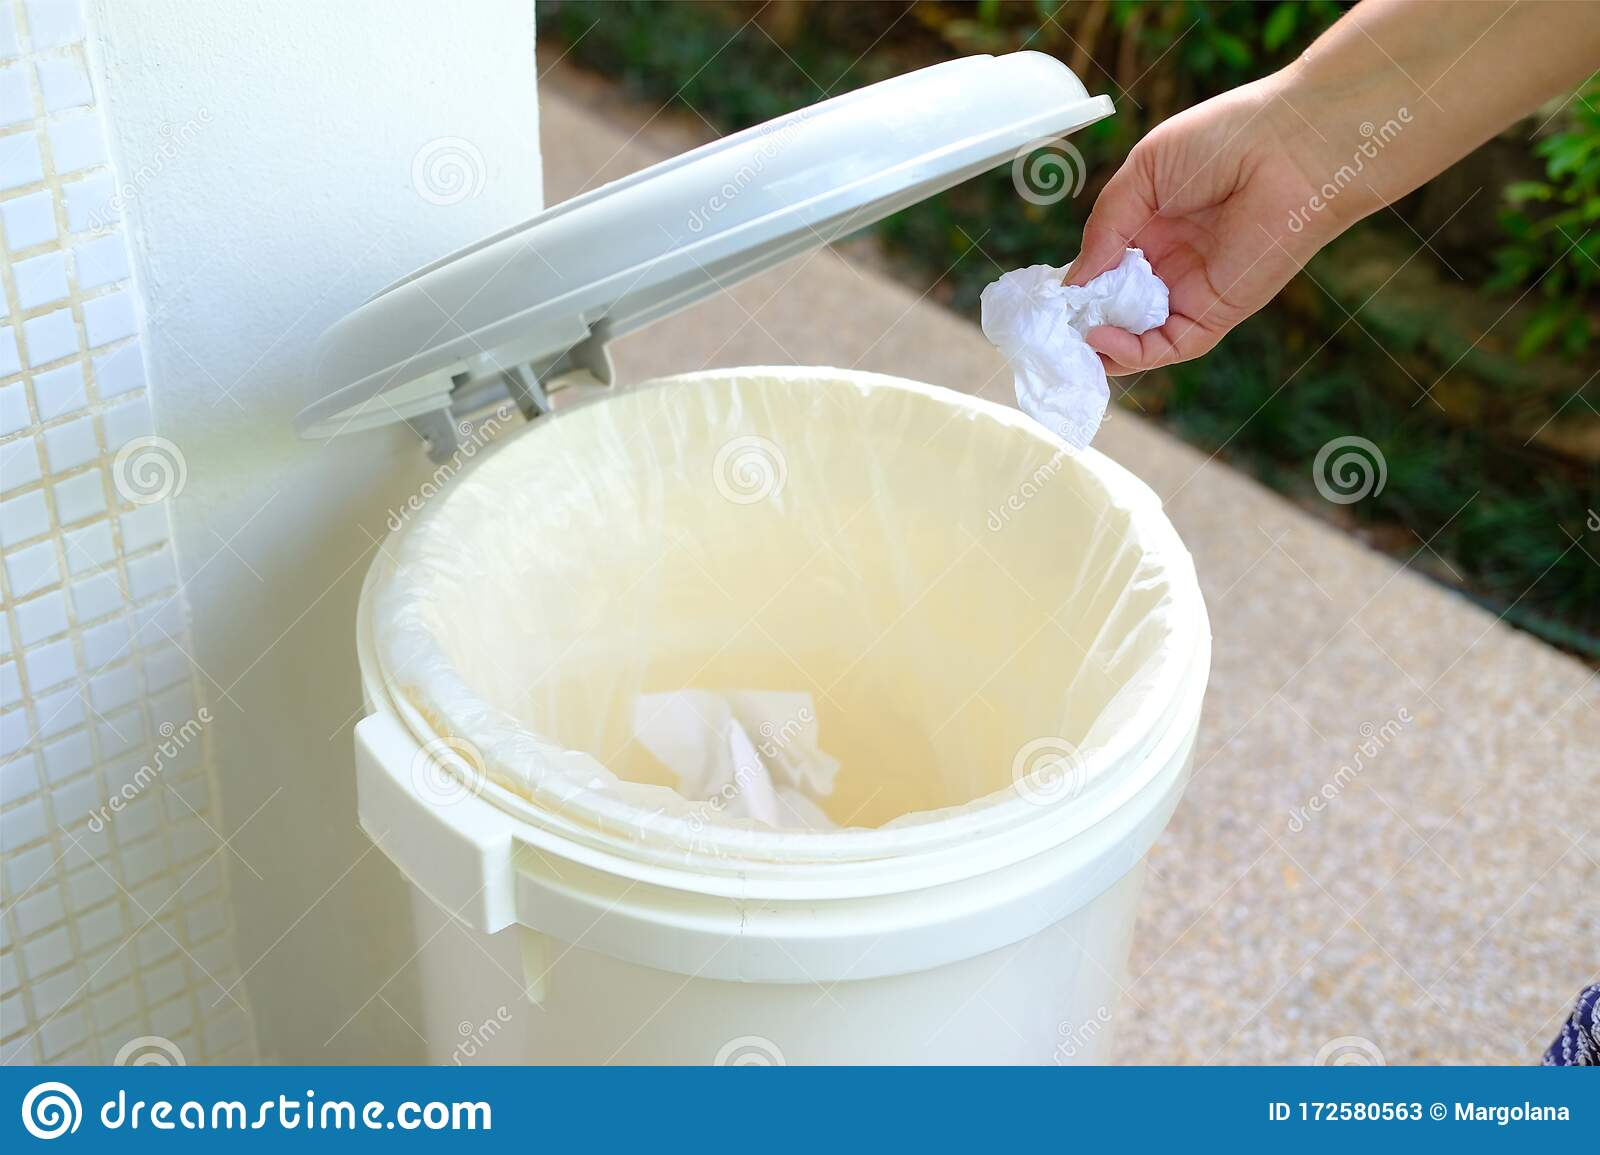Tissue: (969, 246, 1184, 460), (627, 671, 843, 842)
